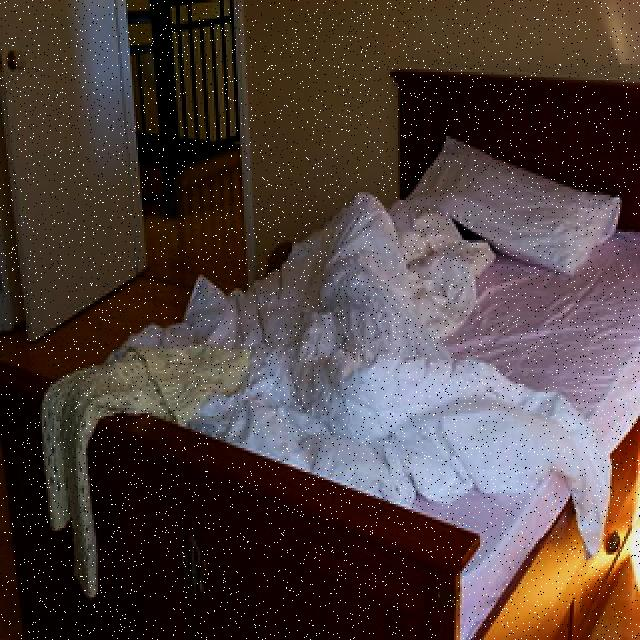bed: (95, 138, 640, 580)
